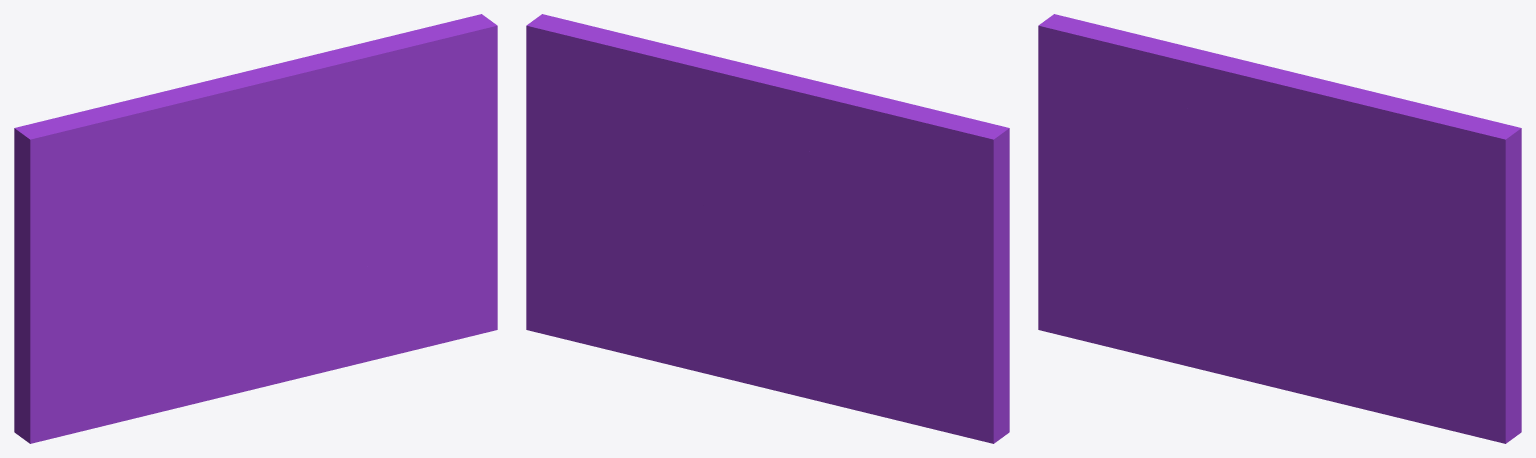
File: Barrier_112_chunks.fbx
3 renders of one model, left to right at view 1: azimuth 30°, elevation 25°; view 2: azimuth 150°, elevation 25°; view 3: azimuth 330°, elevation 25°, orthographic.
Visible parts, largest first — view 1: Barrier_112_0, Barrier_112_2, Barrier_112_1, Barrier_112_6, Barrier_112_4, Barrier_112_5, Barrier_112_3; view 2: Barrier_112_0, Barrier_112_1, Barrier_112_2, Barrier_112_5, Barrier_112_4, Barrier_112_6; view 3: Barrier_112_0, Barrier_112_2, Barrier_112_1, Barrier_112_6, Barrier_112_4, Barrier_112_5, Barrier_112_3.
Part boxes in pixels (bbox=[...]): Barrier_112_0: bbox=[14, 170, 271, 443]; Barrier_112_2: bbox=[255, 14, 497, 268]; Barrier_112_1: bbox=[260, 265, 497, 387]; Barrier_112_6: bbox=[128, 36, 396, 152]; Barrier_112_4: bbox=[14, 100, 175, 202]; Barrier_112_5: bbox=[208, 34, 399, 224]; Barrier_112_3: bbox=[166, 150, 226, 213]; Barrier_112_0: bbox=[771, 159, 1009, 443]; Barrier_112_1: bbox=[526, 205, 785, 392]; Barrier_112_2: bbox=[526, 14, 722, 207]; Barrier_112_5: bbox=[608, 45, 839, 239]; Barrier_112_4: bbox=[824, 103, 1009, 222]; Barrier_112_6: bbox=[615, 43, 905, 159]; Barrier_112_0: bbox=[1038, 56, 1279, 385]; Barrier_112_2: bbox=[1263, 108, 1521, 381]; Barrier_112_1: bbox=[1268, 269, 1521, 443]; Barrier_112_6: bbox=[1142, 41, 1432, 134]; Barrier_112_4: bbox=[1038, 14, 1183, 154]; Barrier_112_5: bbox=[1216, 106, 1439, 220]; Barrier_112_3: bbox=[1174, 107, 1235, 185].
Size of the model in its own units: 462 by 288 by 27.2.
